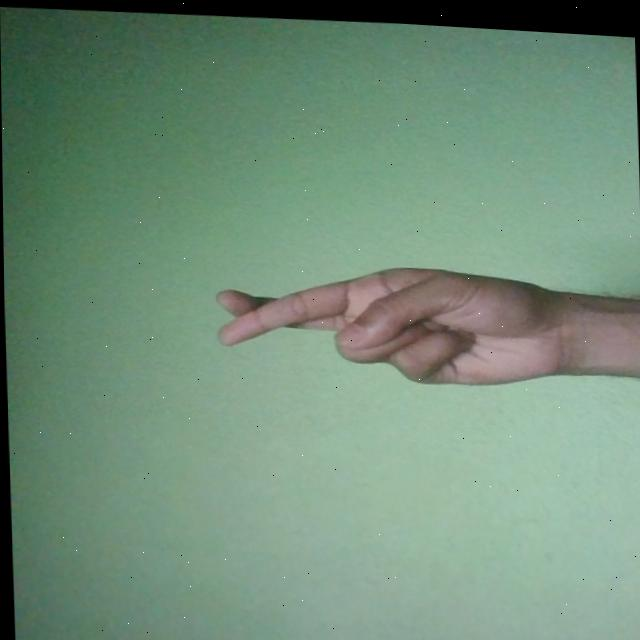Good Luck: (211, 249, 572, 387)
